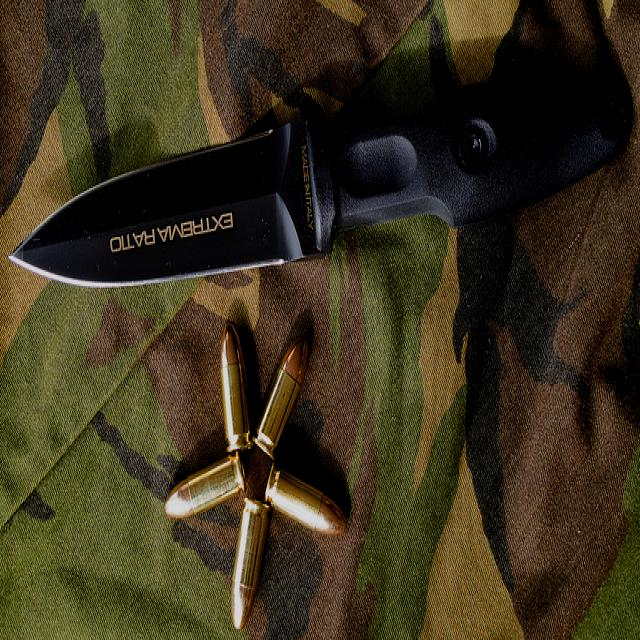knife: (2, 91, 336, 302)
